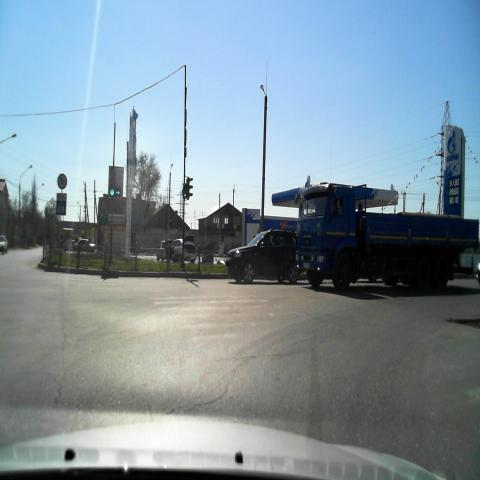3_11: (56, 173, 68, 190)
